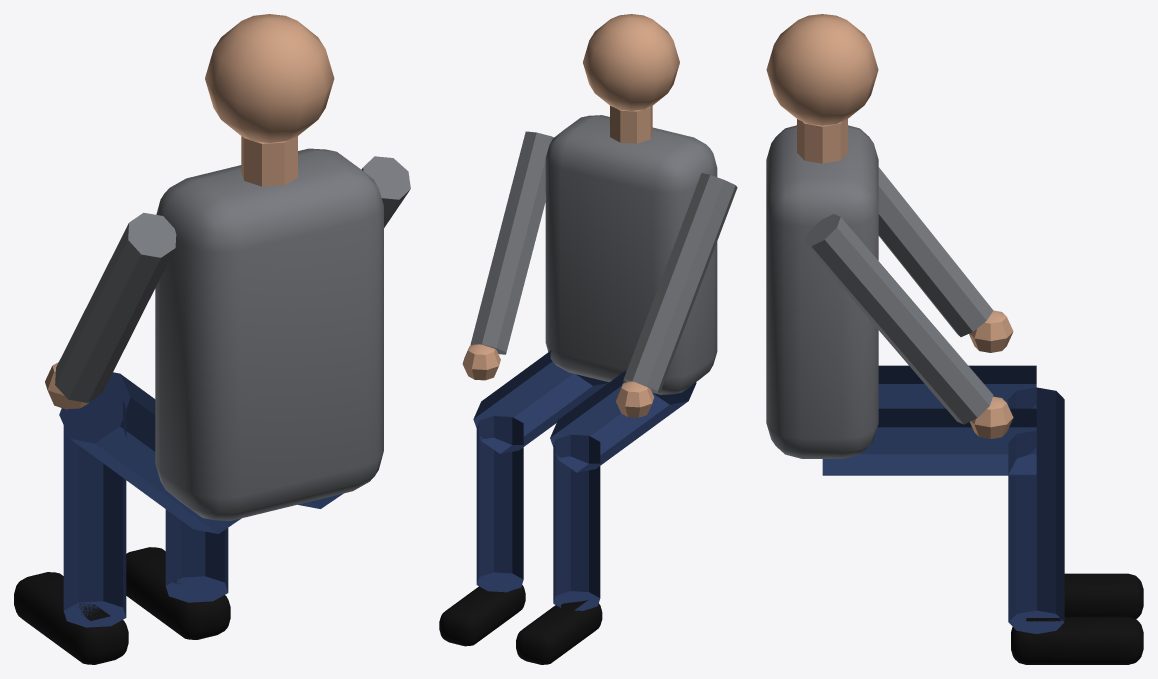
Rendered from people.public.seated.glb.
The picture shows the model from 3 angles, left to right: view 1: azimuth 30°, elevation 25°; view 2: azimuth 150°, elevation 25°; view 3: azimuth 270°, elevation 25°; orthographic projection. The views are drawn at different scales.
Visible parts, largest first — view 1: main__fabric_grey, main__denim, main__skin, main__plastic_black; view 2: main__fabric_grey, main__denim, main__skin, main__plastic_black; view 3: main__fabric_grey, main__denim, main__skin, main__plastic_black.
Boxes of the visible parts, box(x1,y1,x2,y2) form: main__fabric_grey: box(55, 148, 410, 520); main__denim: box(59, 372, 343, 627); main__skin: box(45, 14, 334, 409); main__plastic_black: box(14, 547, 230, 664); main__fabric_grey: box(470, 115, 737, 394); main__denim: box(473, 350, 696, 610); main__skin: box(462, 14, 679, 417); main__plastic_black: box(439, 585, 602, 664); main__fabric_grey: box(766, 125, 993, 458); main__denim: box(822, 365, 1064, 633); main__skin: box(766, 14, 1013, 438); main__plastic_black: box(1011, 573, 1143, 664).
Size of the model in its own units: 0.5496 by 1.34 by 0.74.
